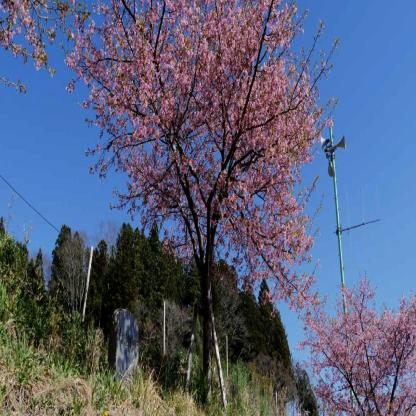KawazuSakura: (0, 5, 321, 312), (304, 284, 415, 414)
